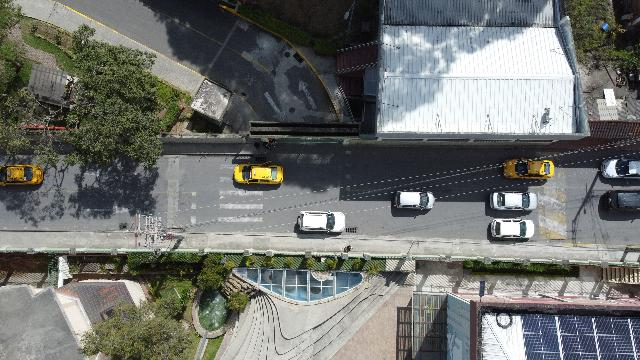Vehiculo: (296, 210, 346, 234), (502, 158, 554, 180), (233, 162, 283, 184), (490, 218, 534, 241), (1, 164, 44, 185), (490, 192, 538, 210), (394, 190, 434, 210), (600, 158, 640, 178), (604, 190, 640, 212)
